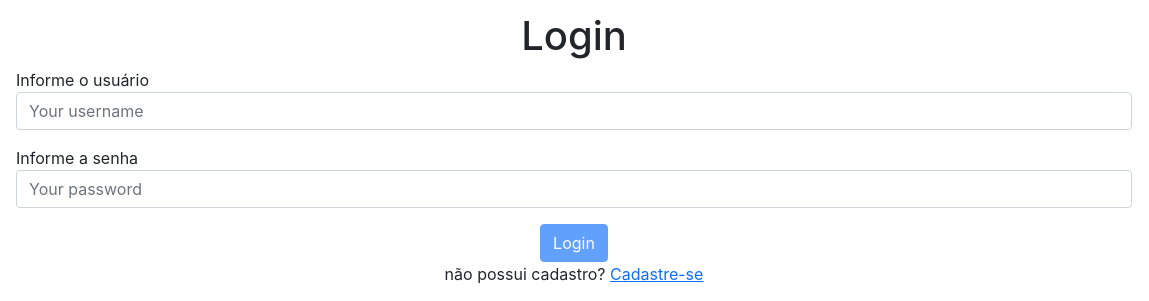
Scenario: LoginPage › Interactions › enables the button when username and password is not empty
Type "my-user-name" into the field with placeholder "Your username" at (574, 111), box [16,92,1132,130]
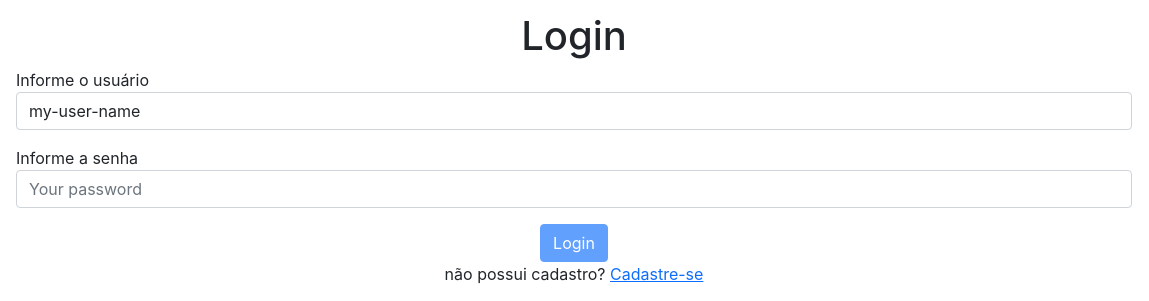
Type "P4ssword" into the password field with placeholder "Your password" at (574, 189), box [16,170,1132,208]
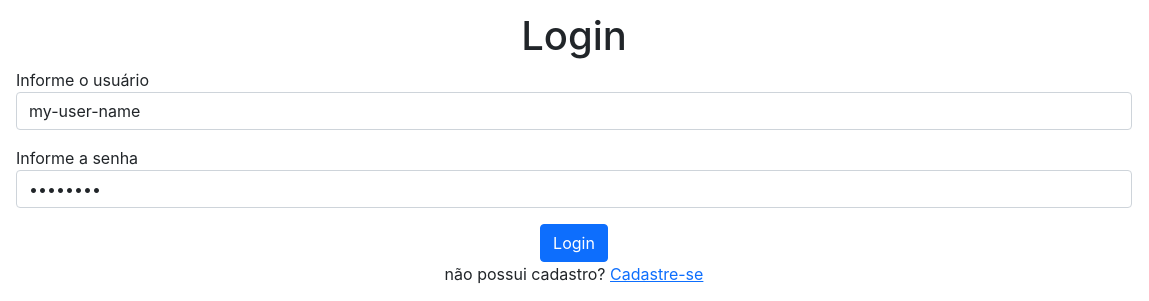
Result: the button "Login" is enabled at [540,224,608,262]
